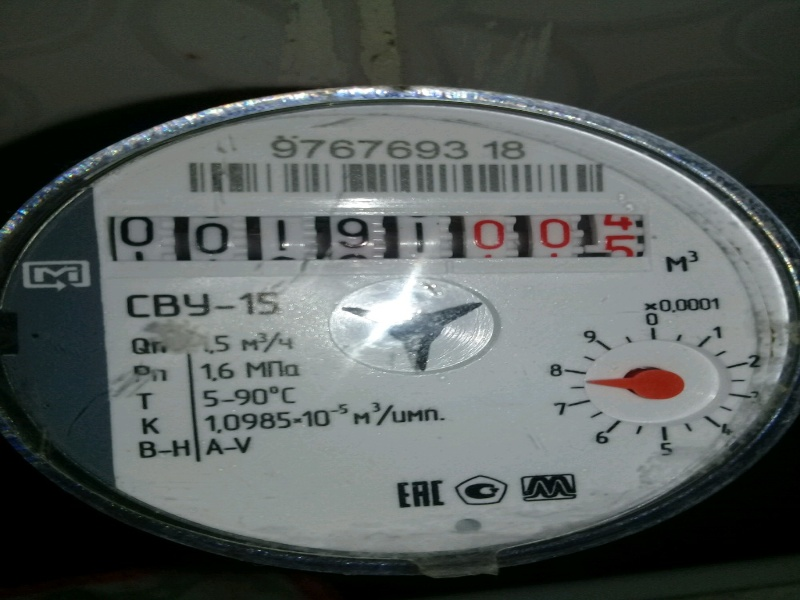meter: (97, 209, 660, 271)
